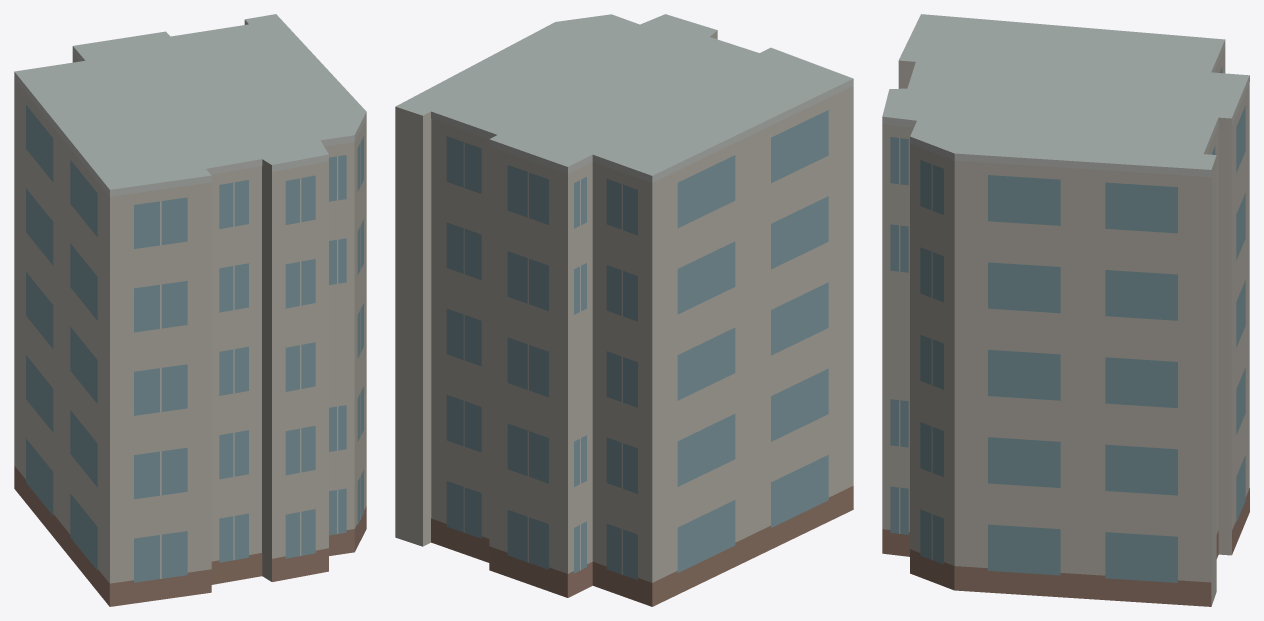
File: survey-upis-32645506.glb
3 renders of one model, left to right at view 1: azimuth 30°, elevation 25°; view 2: azimuth 150°, elevation 25°; view 3: azimuth 270°, elevation 25°, orthographic. The views are drawn at different scales.
Visible parts, largest first — view 1: survey-upis-32645506.tmp; view 2: survey-upis-32645506.tmp; view 3: survey-upis-32645506.tmp.
Boxes of the visible parts, box(x1,y1,x2,y2) form: survey-upis-32645506.tmp: box(14, 14, 366, 606); survey-upis-32645506.tmp: box(395, 14, 853, 606); survey-upis-32645506.tmp: box(882, 14, 1249, 606).
Bounding box in the file's own units: 11.41 × 14.9 × 11.36.
